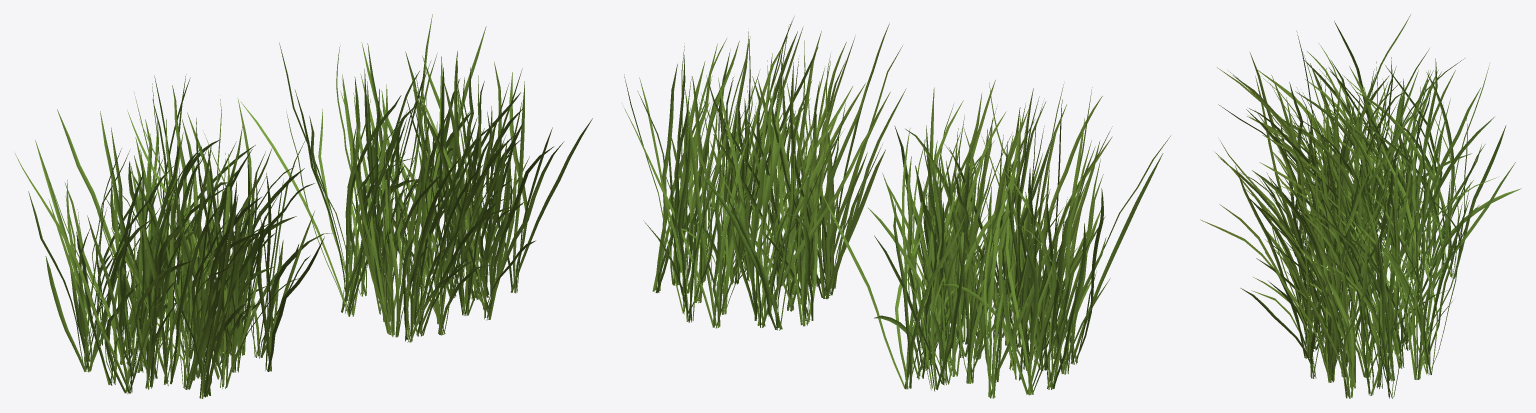
File: grass.glb
The picture shows the model from 3 angles, left to right: view 1: azimuth 30°, elevation 25°; view 2: azimuth 150°, elevation 25°; view 3: azimuth 270°, elevation 25°; orthographic projection. The views are drawn at different scales.
Visible parts, largest first — view 1: Wild Grass Patch 2; view 2: Wild Grass Patch 2; view 3: Wild Grass Patch 2.
Boxes of the visible parts, x1=… form: Wild Grass Patch 2: x1=15, y1=14, x2=592, y2=398; Wild Grass Patch 2: x1=624, y1=16, x2=1170, y2=398; Wild Grass Patch 2: x1=1200, y1=14, x2=1521, y2=398.
Size of the model in its own units: 1.89 by 0.9437 by 1.24.
